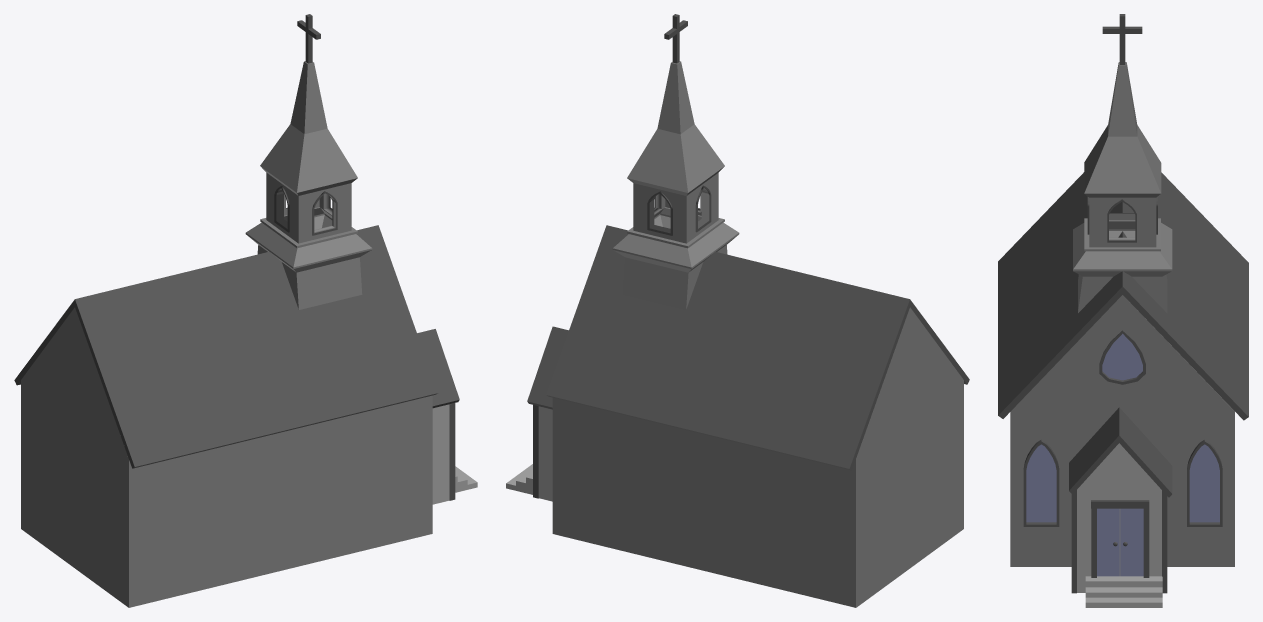
File: Church_Mesh.fbx
3 views of the same model, side by side, from view 1: azimuth 30°, elevation 25°; view 2: azimuth 150°, elevation 25°; view 3: azimuth 270°, elevation 25° (orthographic). The views are drawn at different scales.
Parts seen in each view (by area): view 1: polySurface103, polySurface99, polySurface80, polySurface96; view 2: polySurface103, polySurface99, polySurface80, polySurface96; view 3: polySurface103, polySurface99, polySurface80, polySurface96, polySurface95, pPlane8, polySurface92, polySurface94, polySurface62, polySurface102.
Part boxes in pixels (x1,y1,x2,y2): polySurface103: [21, 307, 432, 607]; polySurface99: [14, 225, 437, 468]; polySurface80: [245, 61, 372, 309]; polySurface96: [417, 329, 459, 504]; polySurface103: [552, 307, 963, 607]; polySurface99: [546, 225, 969, 470]; polySurface80: [612, 61, 739, 309]; polySurface96: [527, 326, 568, 501]; polySurface103: [1010, 295, 1234, 566]; polySurface99: [998, 172, 1248, 420]; polySurface80: [1073, 62, 1172, 312]; polySurface96: [1069, 407, 1172, 593]; polySurface95: [1097, 508, 1143, 576]; pPlane8: [1085, 576, 1162, 607]; polySurface92: [1023, 439, 1059, 526]; polySurface94: [1187, 439, 1222, 526]; polySurface62: [1102, 14, 1142, 64]; polySurface102: [1099, 330, 1145, 384].
Size of the model in its own units: 32.97 by 40.6 by 17.87.
